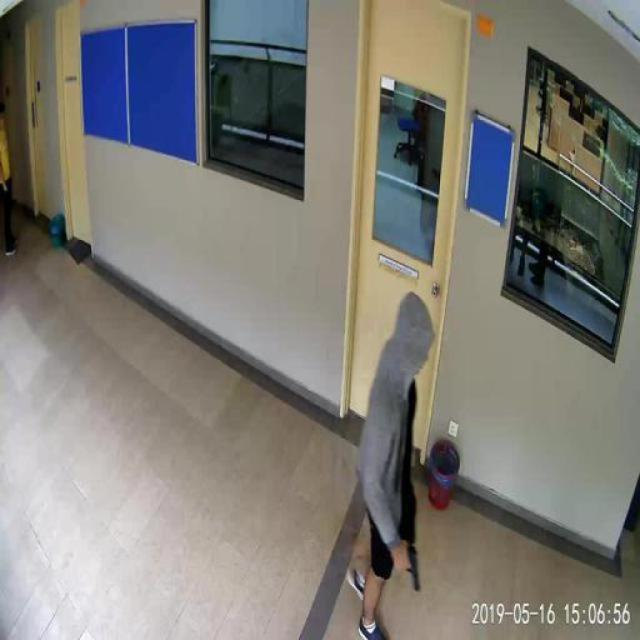pistol: (392, 545, 418, 590)
